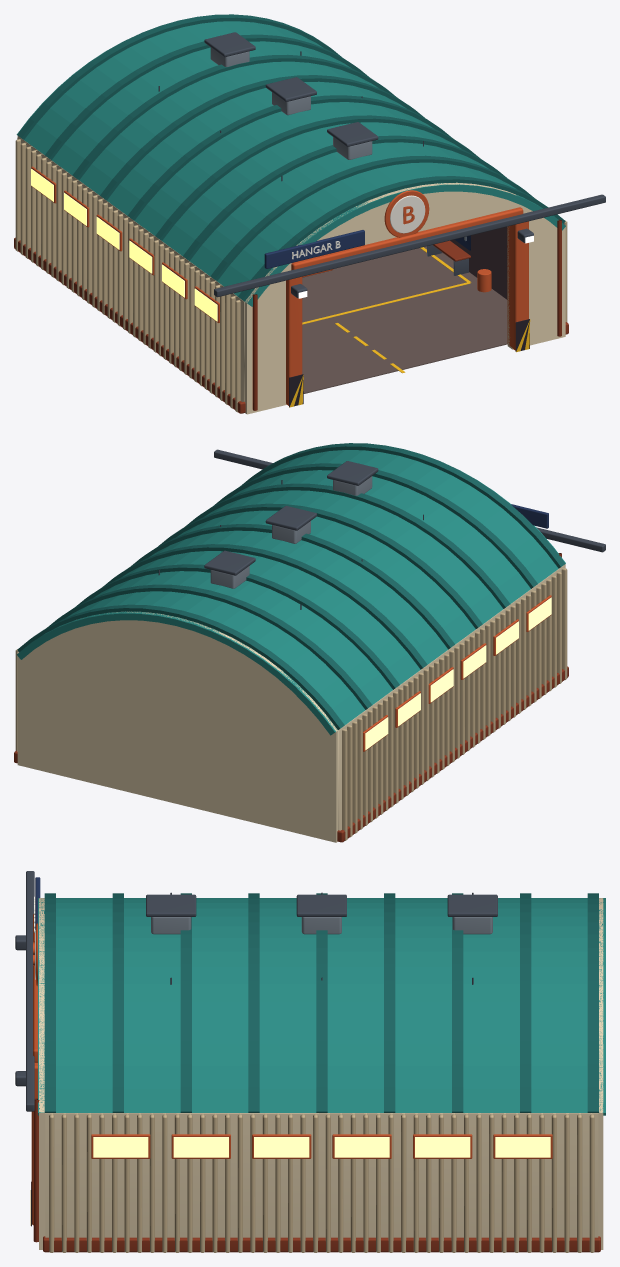
Rendered from dune_hangar_b.glb.
3 views of the same model, one above another, from view 1: azimuth 30°, elevation 25°; view 2: azimuth 150°, elevation 25°; view 3: azimuth 270°, elevation 25° (orthographic). The views are drawn at different scales.
Visible parts, largest first — view 1: HangarB; view 2: HangarB; view 3: HangarB.
Boxes of the visible parts, x1,y1,x2,y2 form: HangarB: (14, 14, 605, 414); HangarB: (14, 443, 605, 842); HangarB: (14, 871, 605, 1252).
Bounding box in the file's own units: 22 × 11 × 23.55.
